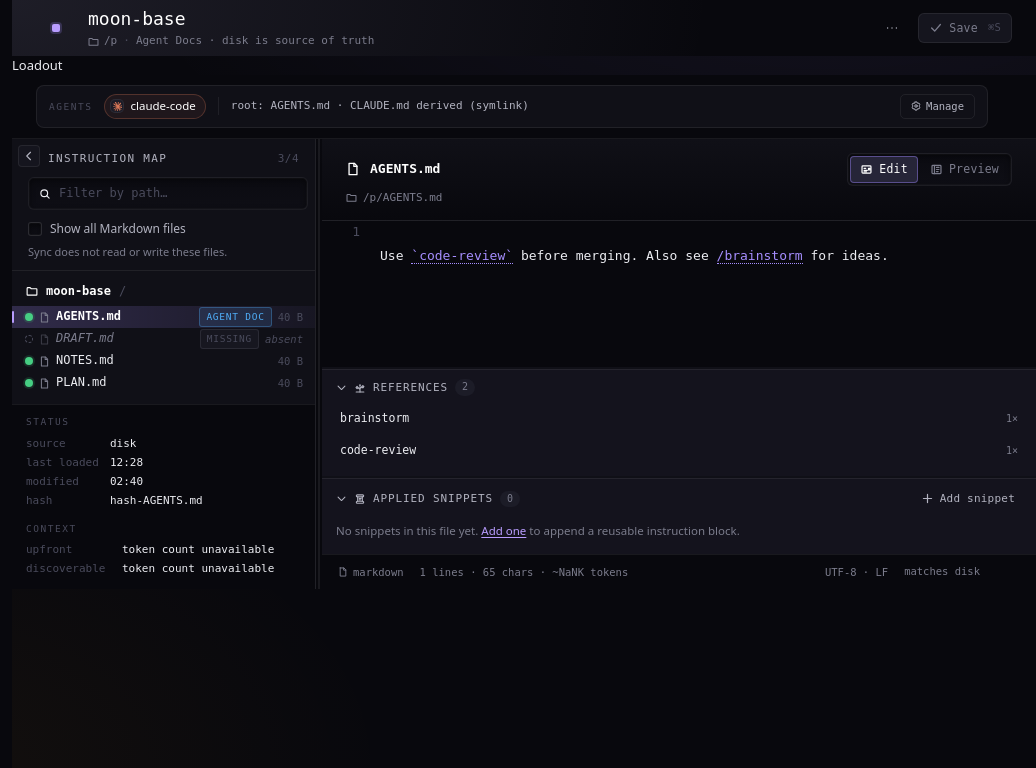
Scenario: AgentDocRefs › recomputes the strip's rows when the selected file changes
The width and height of the screenshot is (1036, 768).
Expected: the button with test id "skill-ref-row-out-code-review" is shown, [334,437,1024,465]
Expected: the button with test id "skill-ref-row-out-brainstorm" is shown, [334,405,1024,433]
Click the text "PLAN.md". click: (81, 382)
box: [56,375,107,389]
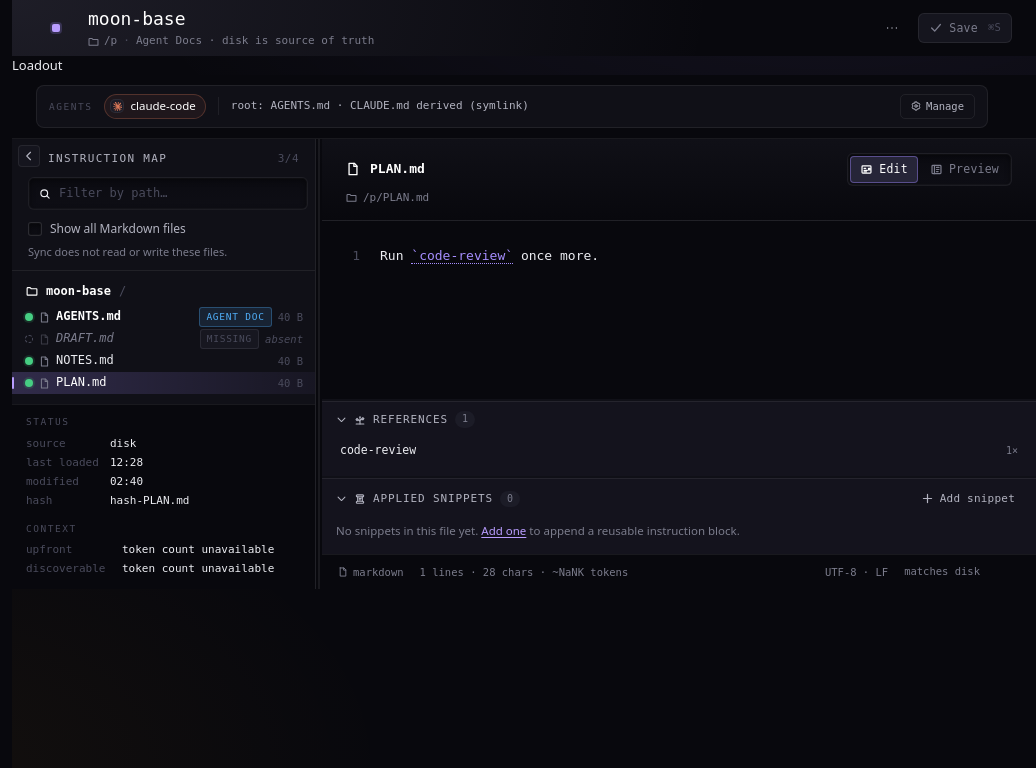
Expected: the button with test id "skill-ref-row-out-code-review" is shown, [334,437,1024,465]
Expected: the button with test id "skill-ref-row-out-brainstorm" is gone
